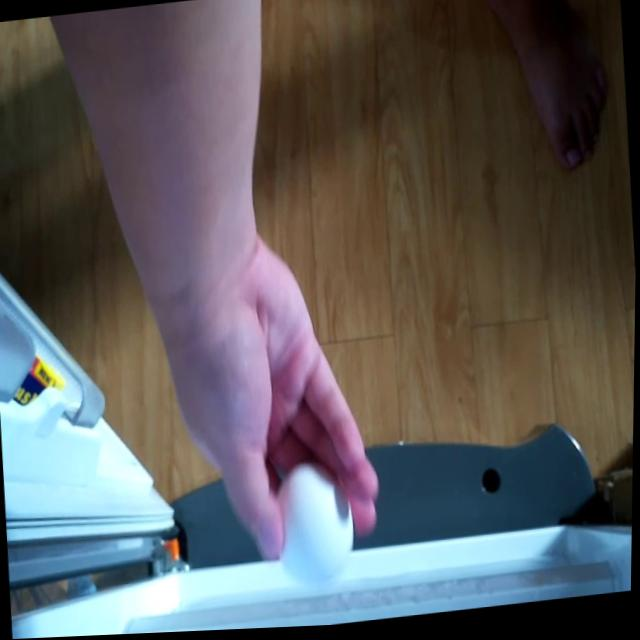egg: (271, 454, 358, 594)
